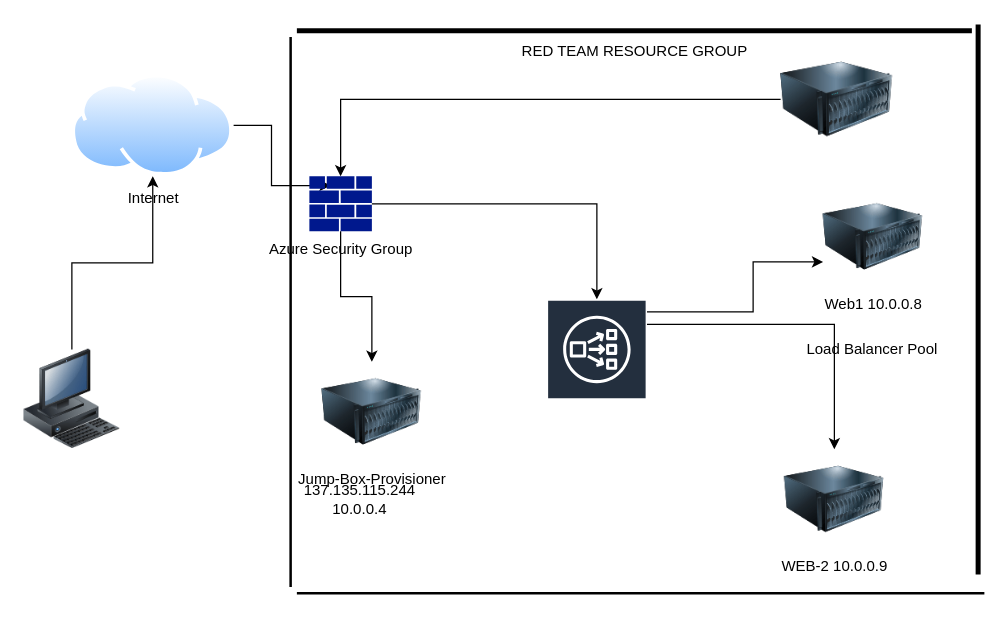
Image size: 1008x621. Some labels were removed from this diagram. Here are the shapes that lost their labels. From the top down, the centre of each, then its label:
pixel 836 99: ELK-VM1 10.1.0.4
pixel 596 323: Azure Load Balancer
pixel 71 399: Home
